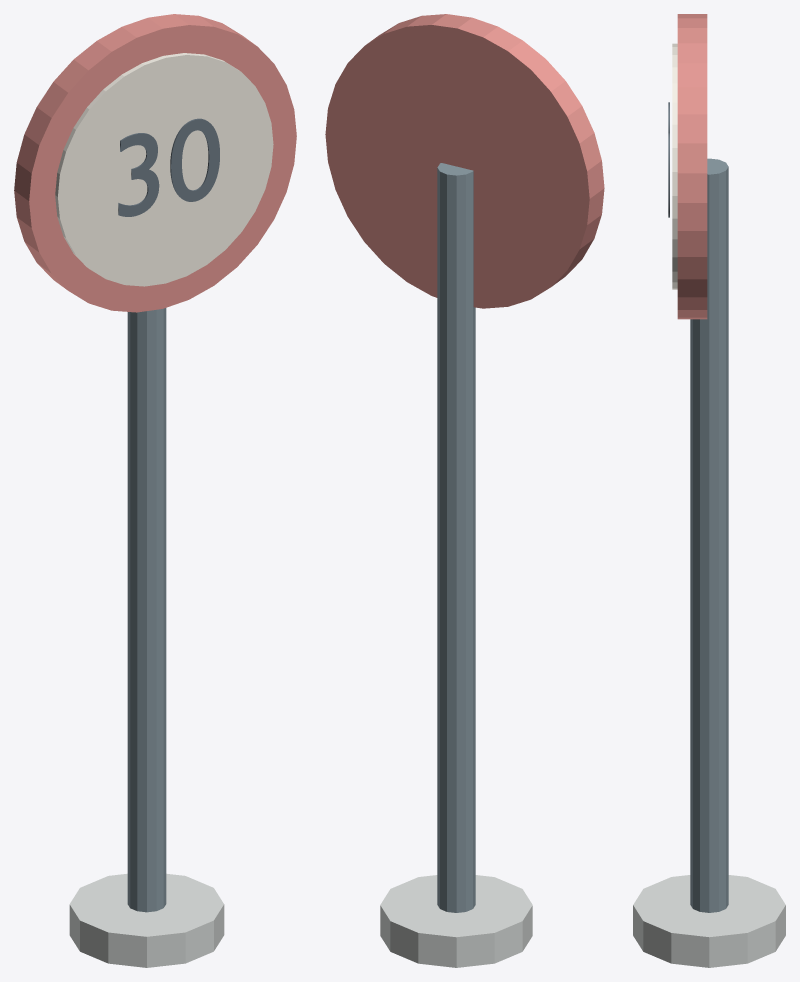
File: speed_30.glb
3 renders of one model, left to right at view 1: azimuth 30°, elevation 25°; view 2: azimuth 150°, elevation 25°; view 3: azimuth 270°, elevation 25°, orthographic.
Parts seen in each view (by area): view 1: speed_30_003, speed_30_002, speed_30_000, speed_30_001, speed_30_004; view 2: speed_30_002, speed_30_000, speed_30_001; view 3: speed_30_000, speed_30_001, speed_30_002, speed_30_003.
Part boxes in pixels (x1=…): speed_30_003: x1=55, y1=53, x2=273, y2=286; speed_30_002: x1=14, y1=14, x2=296, y2=312; speed_30_000: x1=127, y1=308, x2=166, y2=912; speed_30_001: x1=69, y1=873, x2=224, y2=967; speed_30_004: x1=118, y1=118, x2=219, y2=216; speed_30_002: x1=325, y1=14, x2=604, y2=308; speed_30_000: x1=437, y1=163, x2=475, y2=912; speed_30_001: x1=380, y1=875, x2=532, y2=967; speed_30_000: x1=690, y1=158, x2=728, y2=912; speed_30_001: x1=633, y1=875, x2=785, y2=967; speed_30_002: x1=677, y1=14, x2=707, y2=319; speed_30_003: x1=672, y1=43, x2=677, y2=289.
Size of the model in its own units: 0.72 by 2.36 by 0.36.
